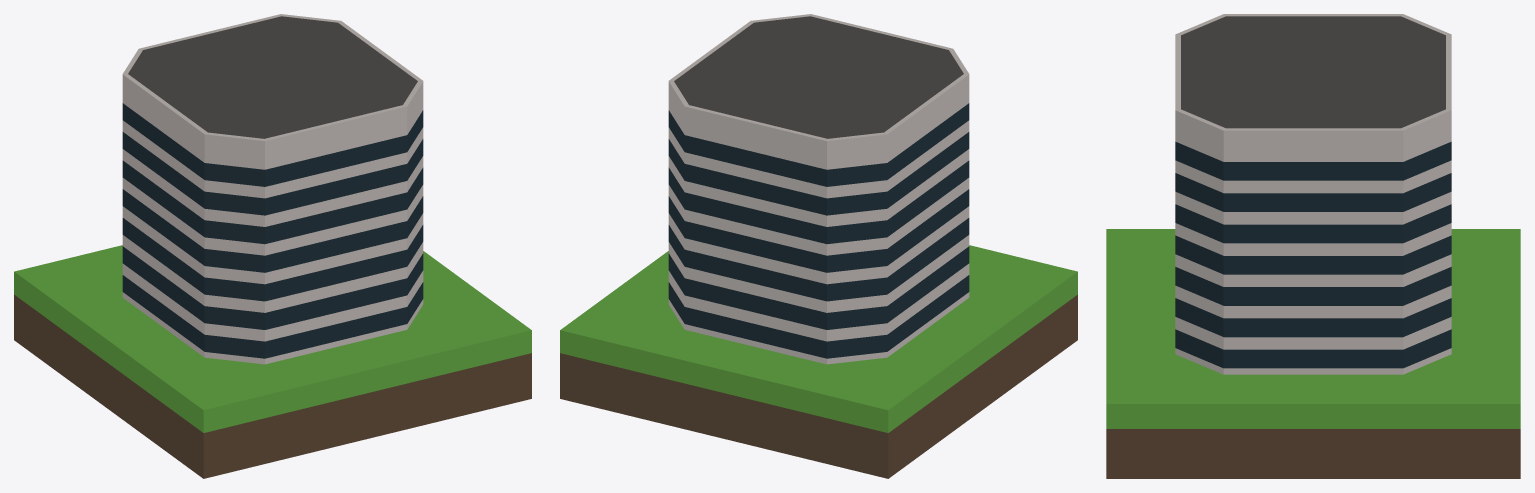
File: skyscraper-small.glb
3 views of the same model, side by side, from view 1: azimuth 30°, elevation 25°; view 2: azimuth 150°, elevation 25°; view 3: azimuth 270°, elevation 25° (orthographic). The views are drawn at different scales.
Visible parts, largest first — view 1: skyscraper-small; view 2: skyscraper-small; view 3: skyscraper-small.
Boxes of the visible parts, x1,y1,x2,y2 form: skyscraper-small: [14, 14, 531, 478]; skyscraper-small: [560, 14, 1077, 478]; skyscraper-small: [1106, 14, 1520, 478].
Size of the model in its own units: 30 by 25.5 by 30.
Materials: 1 (1 with a texture image).
